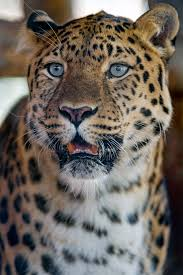amur_leopard: (7, 4, 183, 178)
